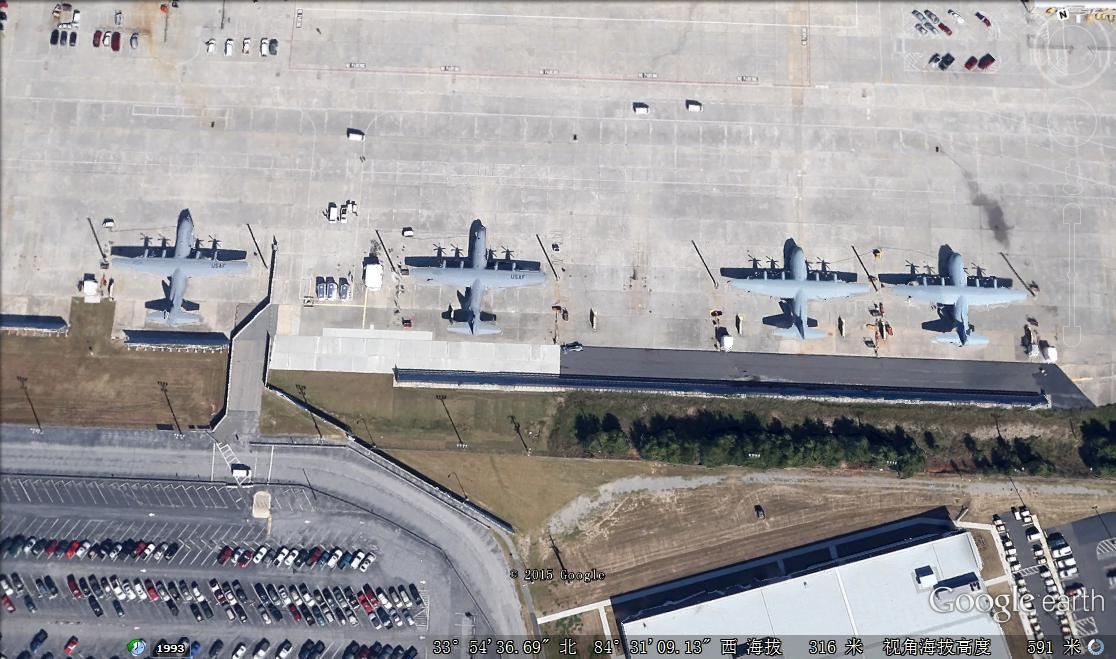C-130: (393, 217, 549, 335), (106, 209, 256, 327), (887, 240, 1036, 346), (726, 240, 868, 343)
